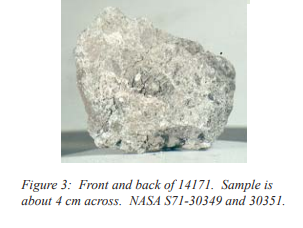Breccia: (67, 2, 223, 159)
